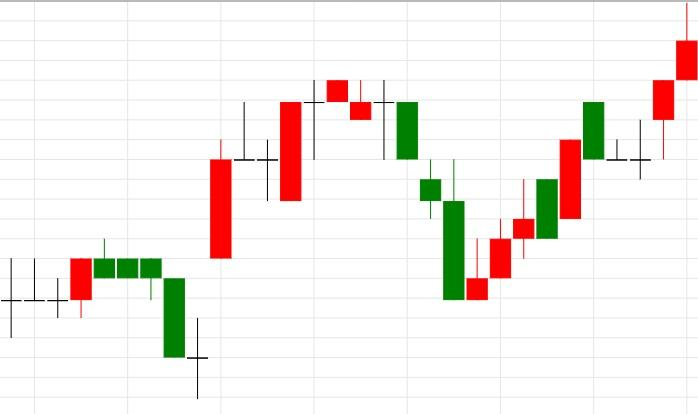evening_star_fall: (186, 79, 419, 399)
inverse_hammer_rise: (326, 79, 489, 301)
three_white_soldiers_rise: (326, 79, 535, 301)
